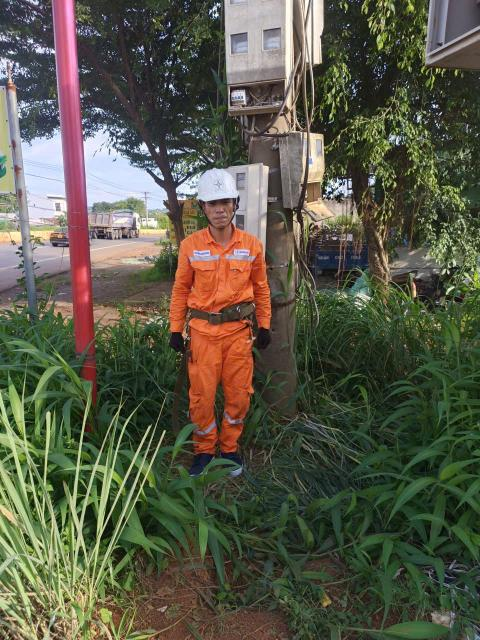gloves: (245, 321, 276, 351)
harness: (175, 298, 268, 332)
helmet: (183, 149, 252, 215), (162, 326, 195, 365)
shoes: (183, 442, 222, 487), (215, 442, 249, 476)
